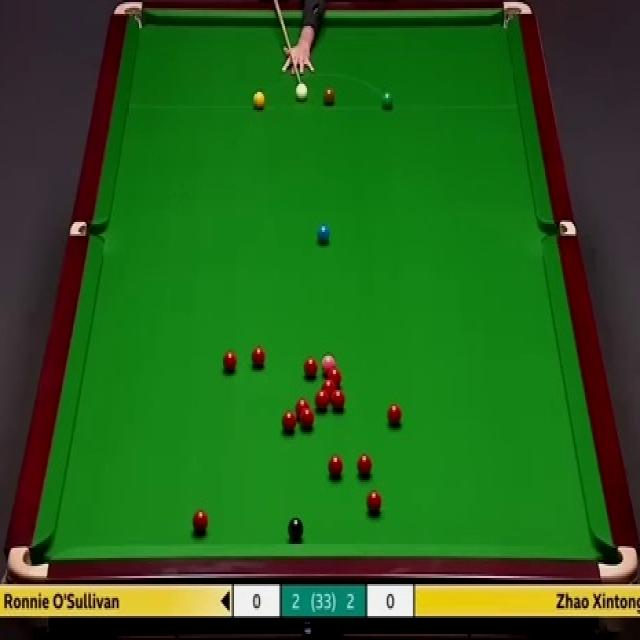black-ball: (286, 514, 304, 538)
blue-ball: (316, 225, 331, 242)
brown-ball: (324, 88, 335, 106)
green-ball: (380, 88, 395, 110)
pink-ball: (318, 356, 334, 370)
red-ball: (192, 510, 208, 538), (386, 399, 402, 426), (221, 349, 237, 374), (314, 389, 330, 412), (300, 405, 316, 428), (329, 457, 344, 481), (365, 489, 379, 514), (250, 348, 266, 367), (356, 453, 370, 474), (282, 413, 297, 432), (330, 386, 344, 406), (320, 378, 334, 396), (305, 356, 317, 377), (327, 368, 341, 385)
white-ball: (295, 81, 307, 101)
yellow-ball: (253, 90, 265, 110)
